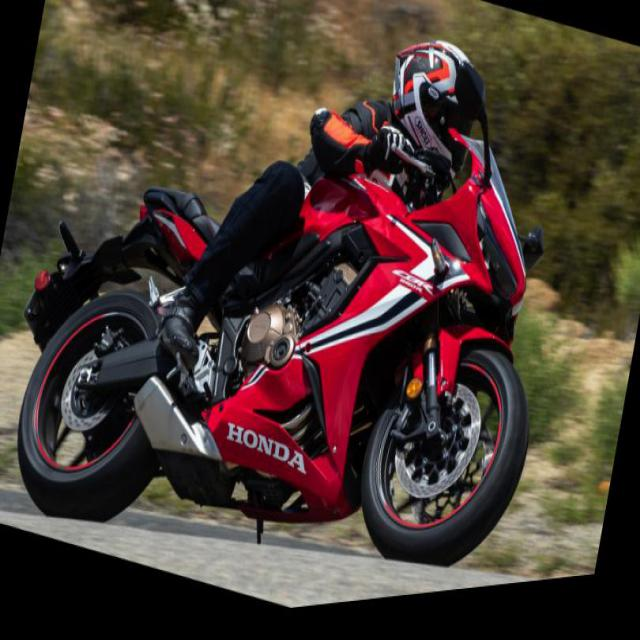CBR650R: (4, 0, 578, 639)
